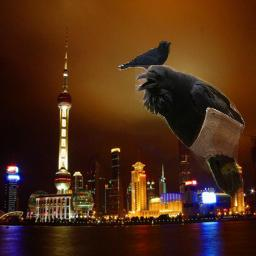Crow: (135, 65, 245, 199), (118, 41, 171, 80)
